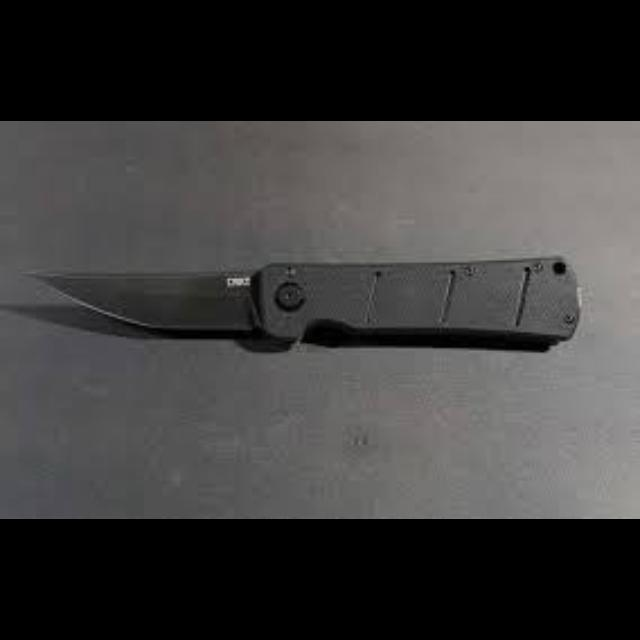knife: (21, 257, 582, 351)
